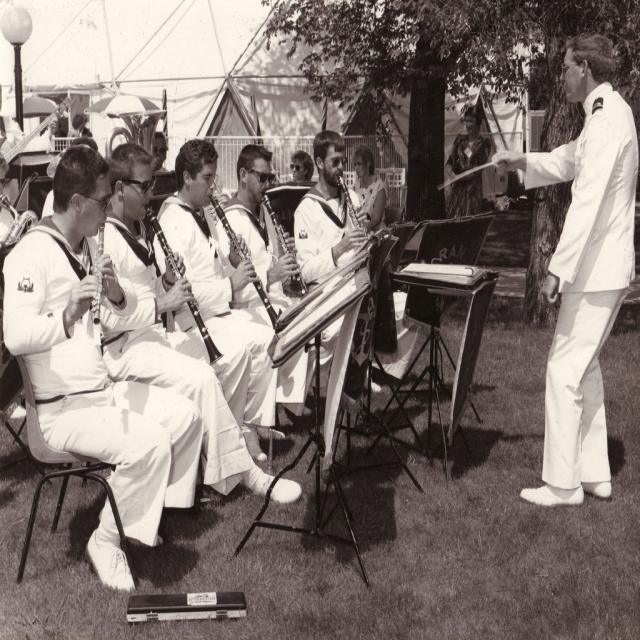clarinet: (142, 204, 226, 366), (206, 195, 291, 338), (259, 192, 309, 298), (335, 173, 369, 242)
